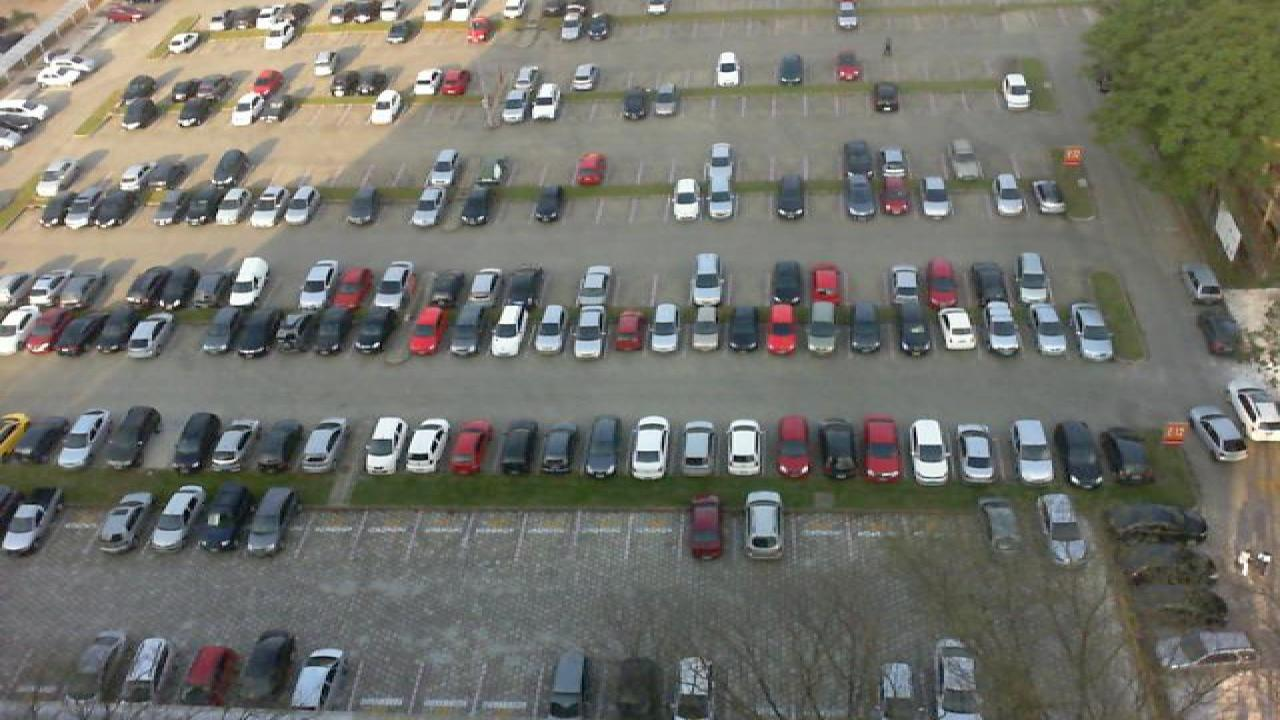Car: (290, 649, 344, 719), (150, 484, 206, 550), (1038, 491, 1088, 562), (0, 485, 52, 550), (1192, 400, 1246, 462), (54, 407, 108, 468), (1230, 380, 1280, 444), (740, 491, 786, 559), (1010, 417, 1054, 487), (860, 414, 904, 483), (170, 410, 220, 469), (908, 416, 950, 485), (404, 416, 452, 475), (360, 415, 406, 476), (722, 417, 766, 480), (954, 420, 996, 486), (684, 494, 726, 560), (628, 414, 670, 479), (450, 417, 496, 476), (1020, 302, 1066, 360), (774, 413, 814, 479), (582, 415, 624, 477), (1068, 300, 1112, 359), (704, 142, 738, 218), (678, 419, 720, 480), (982, 302, 1024, 360), (764, 300, 802, 358), (372, 261, 414, 312), (938, 307, 980, 358), (486, 306, 526, 359), (570, 305, 608, 360), (688, 253, 726, 308), (406, 305, 446, 357), (1010, 252, 1050, 304), (528, 305, 566, 359), (230, 257, 270, 307), (644, 302, 682, 354), (298, 259, 336, 309), (688, 302, 722, 356), (274, 184, 316, 226), (408, 184, 448, 228), (808, 261, 846, 307), (990, 172, 1028, 216), (576, 263, 612, 307), (918, 177, 954, 218), (670, 176, 702, 221), (366, 88, 404, 124), (1000, 72, 1034, 111), (528, 84, 560, 121), (232, 89, 264, 125), (712, 52, 742, 88)
